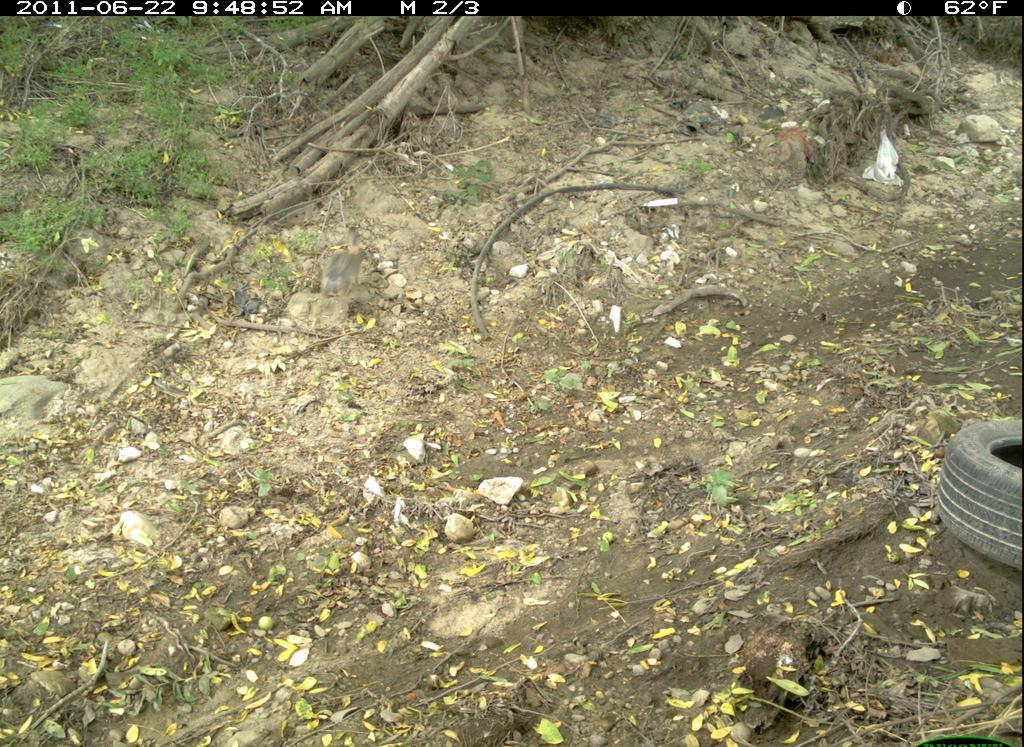rabbit: (314, 221, 367, 299)
